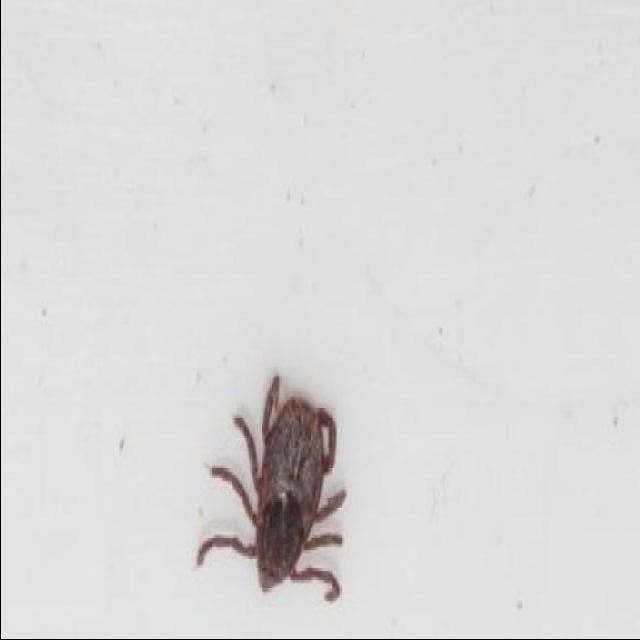Rhipicephalus Sanguineus-F: (193, 371, 345, 602)
